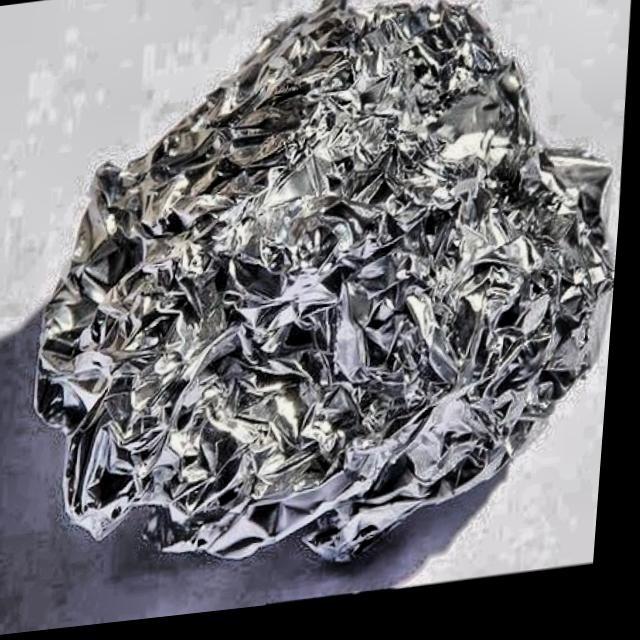Foil: (4, 0, 640, 616)
